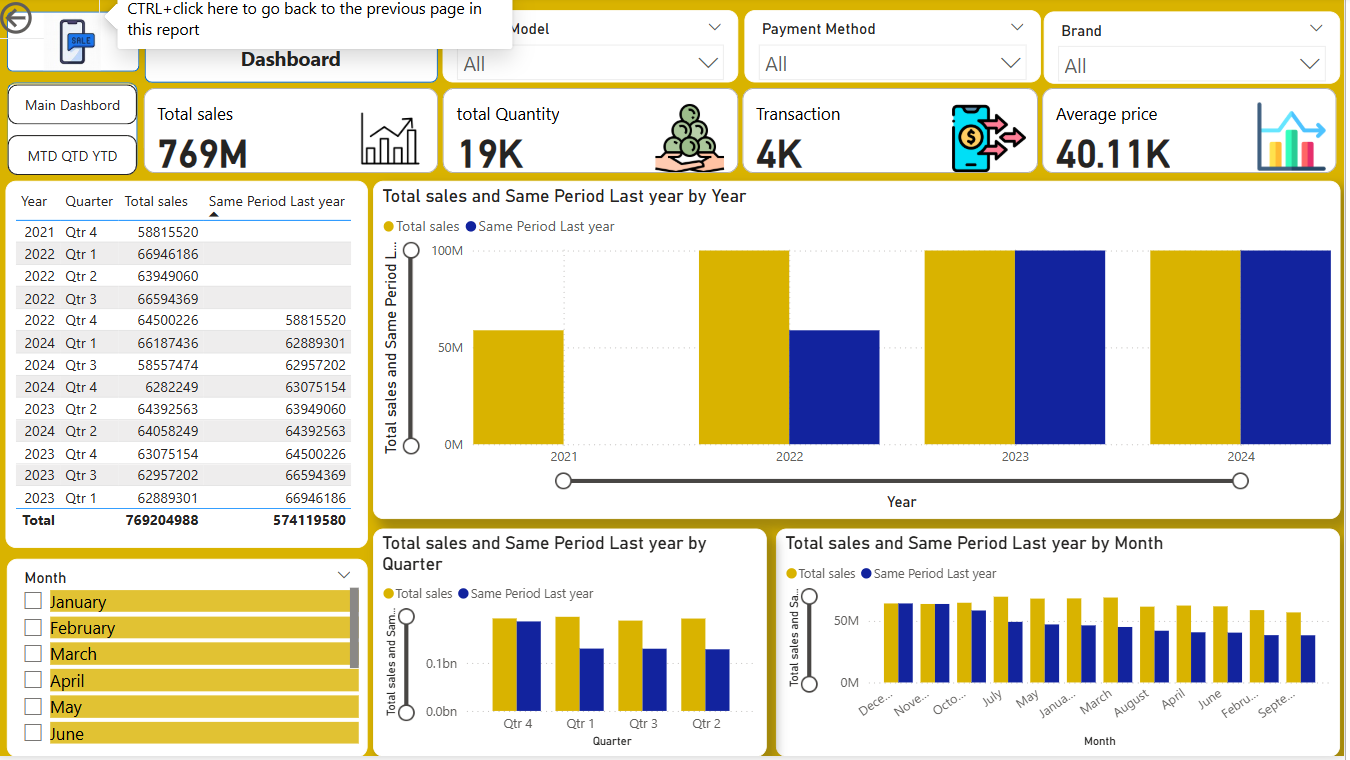

This screenshot's page, from the dashboard's own definition file:
{"tool":"powerbi","page":{"name":"Same period last year","canvas":[1280,720],"ordinal":2},"visuals":[{"type":"shape","box":[10.7,13.3,125.3,57.3],"z":0},{"type":"shape","box":[11.2,80.6,124.4,85.6],"z":1000},{"type":"cardVisual","fields":{"Data":["Mobile sales data.Total sales","Mobile sales data.total unit sold","Mobile sales data.Transaction","Avg(Mobile sales data.Average price)"]},"box":[136,81,1144,91],"z":2000},{"type":"shape","box":[142.3,13.5,278.5,67.7],"z":3000},{"type":"textbox","box":[208.3,16.7,145,60],"z":4000},{"type":"slicer","fields":{"Values":["Mobile sales data.Payment Method"]},"box":[710.3,12.6,281.3,68.7],"z":5000},{"type":"slicer","fields":{"Values":["Mobile sales data.Mobile Model"]},"box":[424.8,12.6,280.6,68.7],"z":6000},{"type":"slicer","fields":{"Values":["Mobile sales data.Brand"]},"box":[994.5,13.5,281,68.7],"z":7000},{"type":"actionButton","box":[0,0,100,40],"z":8000},{"type":"tableEx","fields":{"Values":["Custom Calendar.Date.Variation.Date Hierarchy.Year","Custom Calendar.Date.Variation.Date Hierarchy.Quarter","Mobile sales data.Total sales","Mobile sales data.Same Period Last year"]},"box":[10,174.2,343.5,348.4],"z":9000},{"type":"slicer","fields":{"Values":["Custom Calendar.Date.Variation.Date Hierarchy.Month"]},"box":[11.2,532.6,342.2,187.9],"z":10000},{"type":"clusteredColumnChart","fields":{"Category":["Custom Calendar.Date.Variation.Date Hierarchy.Year","Custom Calendar.Date.Variation.Date Hierarchy.Quarter"],"Y":["Mobile sales data.Total sales","Mobile sales data.Same Period Last year"]},"box":[358.4,174.2,917.2,321.1],"z":11000},{"type":"clusteredColumnChart","fields":{"Y":["Mobile sales data.Total sales","Mobile sales data.Same Period Last year"],"Category":["Custom Calendar.Date.Variation.Date Hierarchy.Month"]},"box":[740.5,504,535.1,216.5],"z":12000},{"type":"clusteredColumnChart","fields":{"Y":["Mobile sales data.Total sales","Mobile sales data.Same Period Last year"],"Category":["Custom Calendar.Date.Variation.Date Hierarchy.Quarter"]},"box":[358.4,504,373.3,216.5],"z":13000},{"type":"pageNavigator","box":[11.2,82.1,125.7,88.4],"z":14000},{"type":"image","box":[34.8,10,77.2,64.7],"z":15000}]}

Visuals, with their boxes on the page's 1280x720 design canvas (x1, y1, x2, y2). These are canvas units, not pixel positions in the 1350x760 screenshot, which may show the page scaled, cropped or inside an application window:
shape: BBox(11, 13, 136, 71)
shape: BBox(11, 81, 136, 166)
cardVisual - Mobile sales data.Total sales x Mobile sales data.total unit sold: BBox(136, 81, 1280, 172)
shape: BBox(142, 14, 421, 81)
textbox: BBox(208, 17, 353, 77)
slicer - Mobile sales data.Payment Method: BBox(710, 13, 992, 81)
slicer - Mobile sales data.Mobile Model: BBox(425, 13, 705, 81)
slicer - Mobile sales data.Brand: BBox(994, 14, 1276, 82)
actionButton: BBox(0, 0, 100, 40)
tableEx - Custom Calendar.Date.Variation.Date Hierarchy.Year x Custom Calendar.Date.Variation.Date Hierarchy.Quarter: BBox(10, 174, 354, 523)
slicer - Custom Calendar.Date.Variation.Date Hierarchy.Month: BBox(11, 533, 353, 720)
clusteredColumnChart - Custom Calendar.Date.Variation.Date Hierarchy.Year x Custom Calendar.Date.Variation.Date Hierarchy.Quarter: BBox(358, 174, 1276, 495)
clusteredColumnChart - Mobile sales data.Total sales x Mobile sales data.Same Period Last year: BBox(740, 504, 1276, 720)
clusteredColumnChart - Mobile sales data.Total sales x Mobile sales data.Same Period Last year: BBox(358, 504, 732, 720)
pageNavigator: BBox(11, 82, 137, 170)
image: BBox(35, 10, 112, 75)
